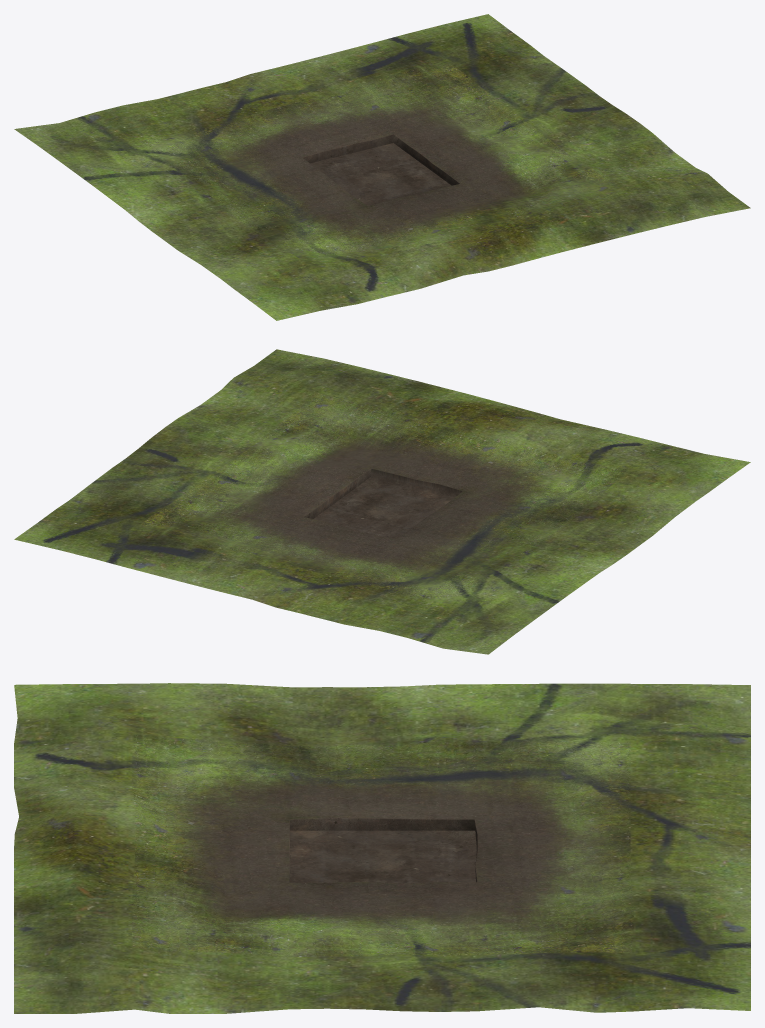
File: raskop 1.FBX
The picture shows the model from 3 angles, top to bottom: view 1: azimuth 30°, elevation 25°; view 2: azimuth 150°, elevation 25°; view 3: azimuth 270°, elevation 25°; orthographic projection. The views are drawn at different scales.
Parts seen in each view (by area): view 1: Plane002; view 2: Plane002; view 3: Plane002.
Part boxes in pixels (x1=…): Plane002: x1=14, y1=14, x2=750, y2=320; Plane002: x1=14, y1=349, x2=750, y2=654; Plane002: x1=14, y1=683, x2=750, y2=1013.
Bounding box in the file's own units: 41223 × 1544 × 39513.
